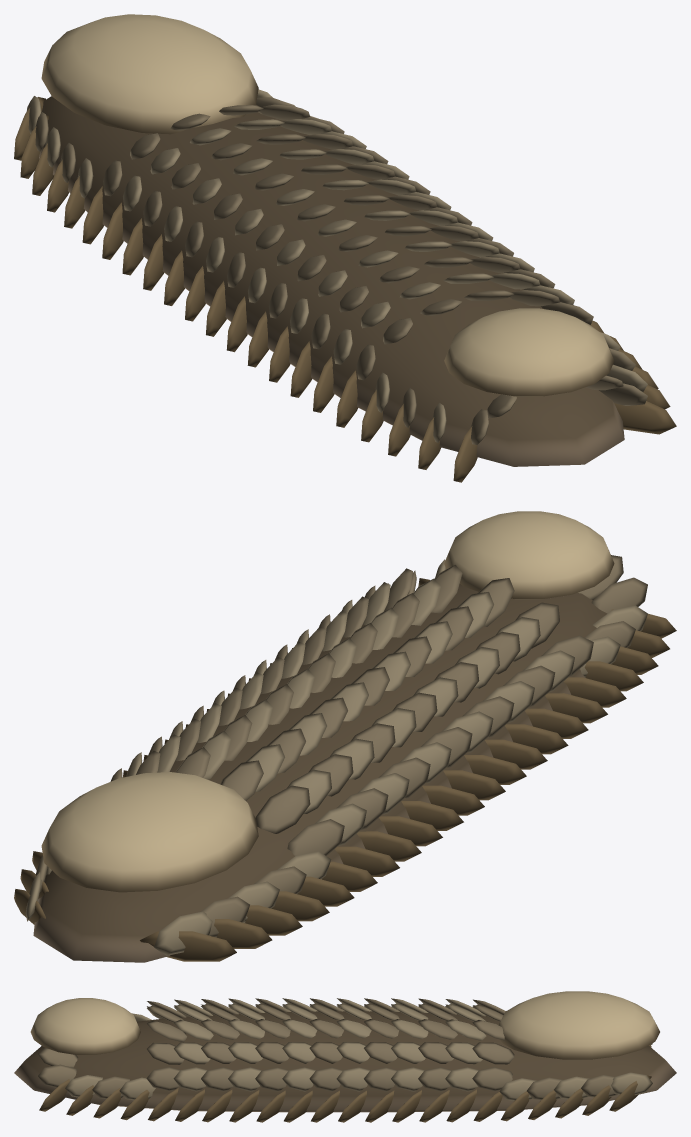
The model's file is Halkieria.fbx.
3 renders of one model, top to bottom at view 1: azimuth 30°, elevation 25°; view 2: azimuth 150°, elevation 25°; view 3: azimuth 270°, elevation 25°, orthographic. The views are drawn at different scales.
Visible parts, largest first — view 1: Halkieria; view 2: Halkieria; view 3: Halkieria.
Part boxes in pixels (x1,y1,x2,y2): Halkieria: [14, 14, 676, 482]; Halkieria: [14, 511, 676, 962]; Halkieria: [14, 991, 676, 1122].
Bounding box in the file's own units: 0.407 × 0.167 × 1.2.
